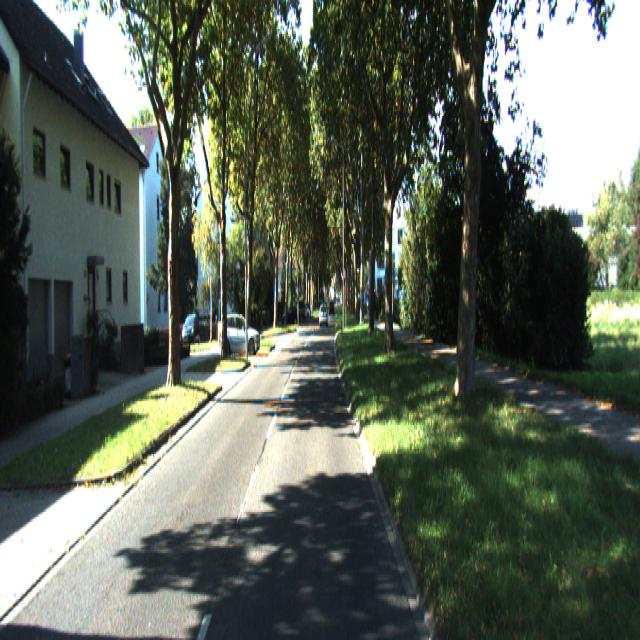Car: (218, 312, 262, 355)
